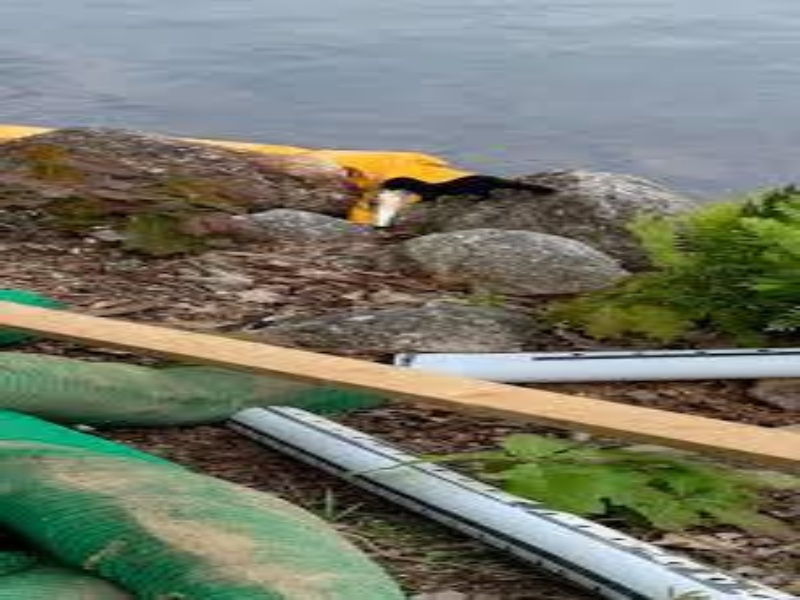minkish: (375, 168, 559, 208)
